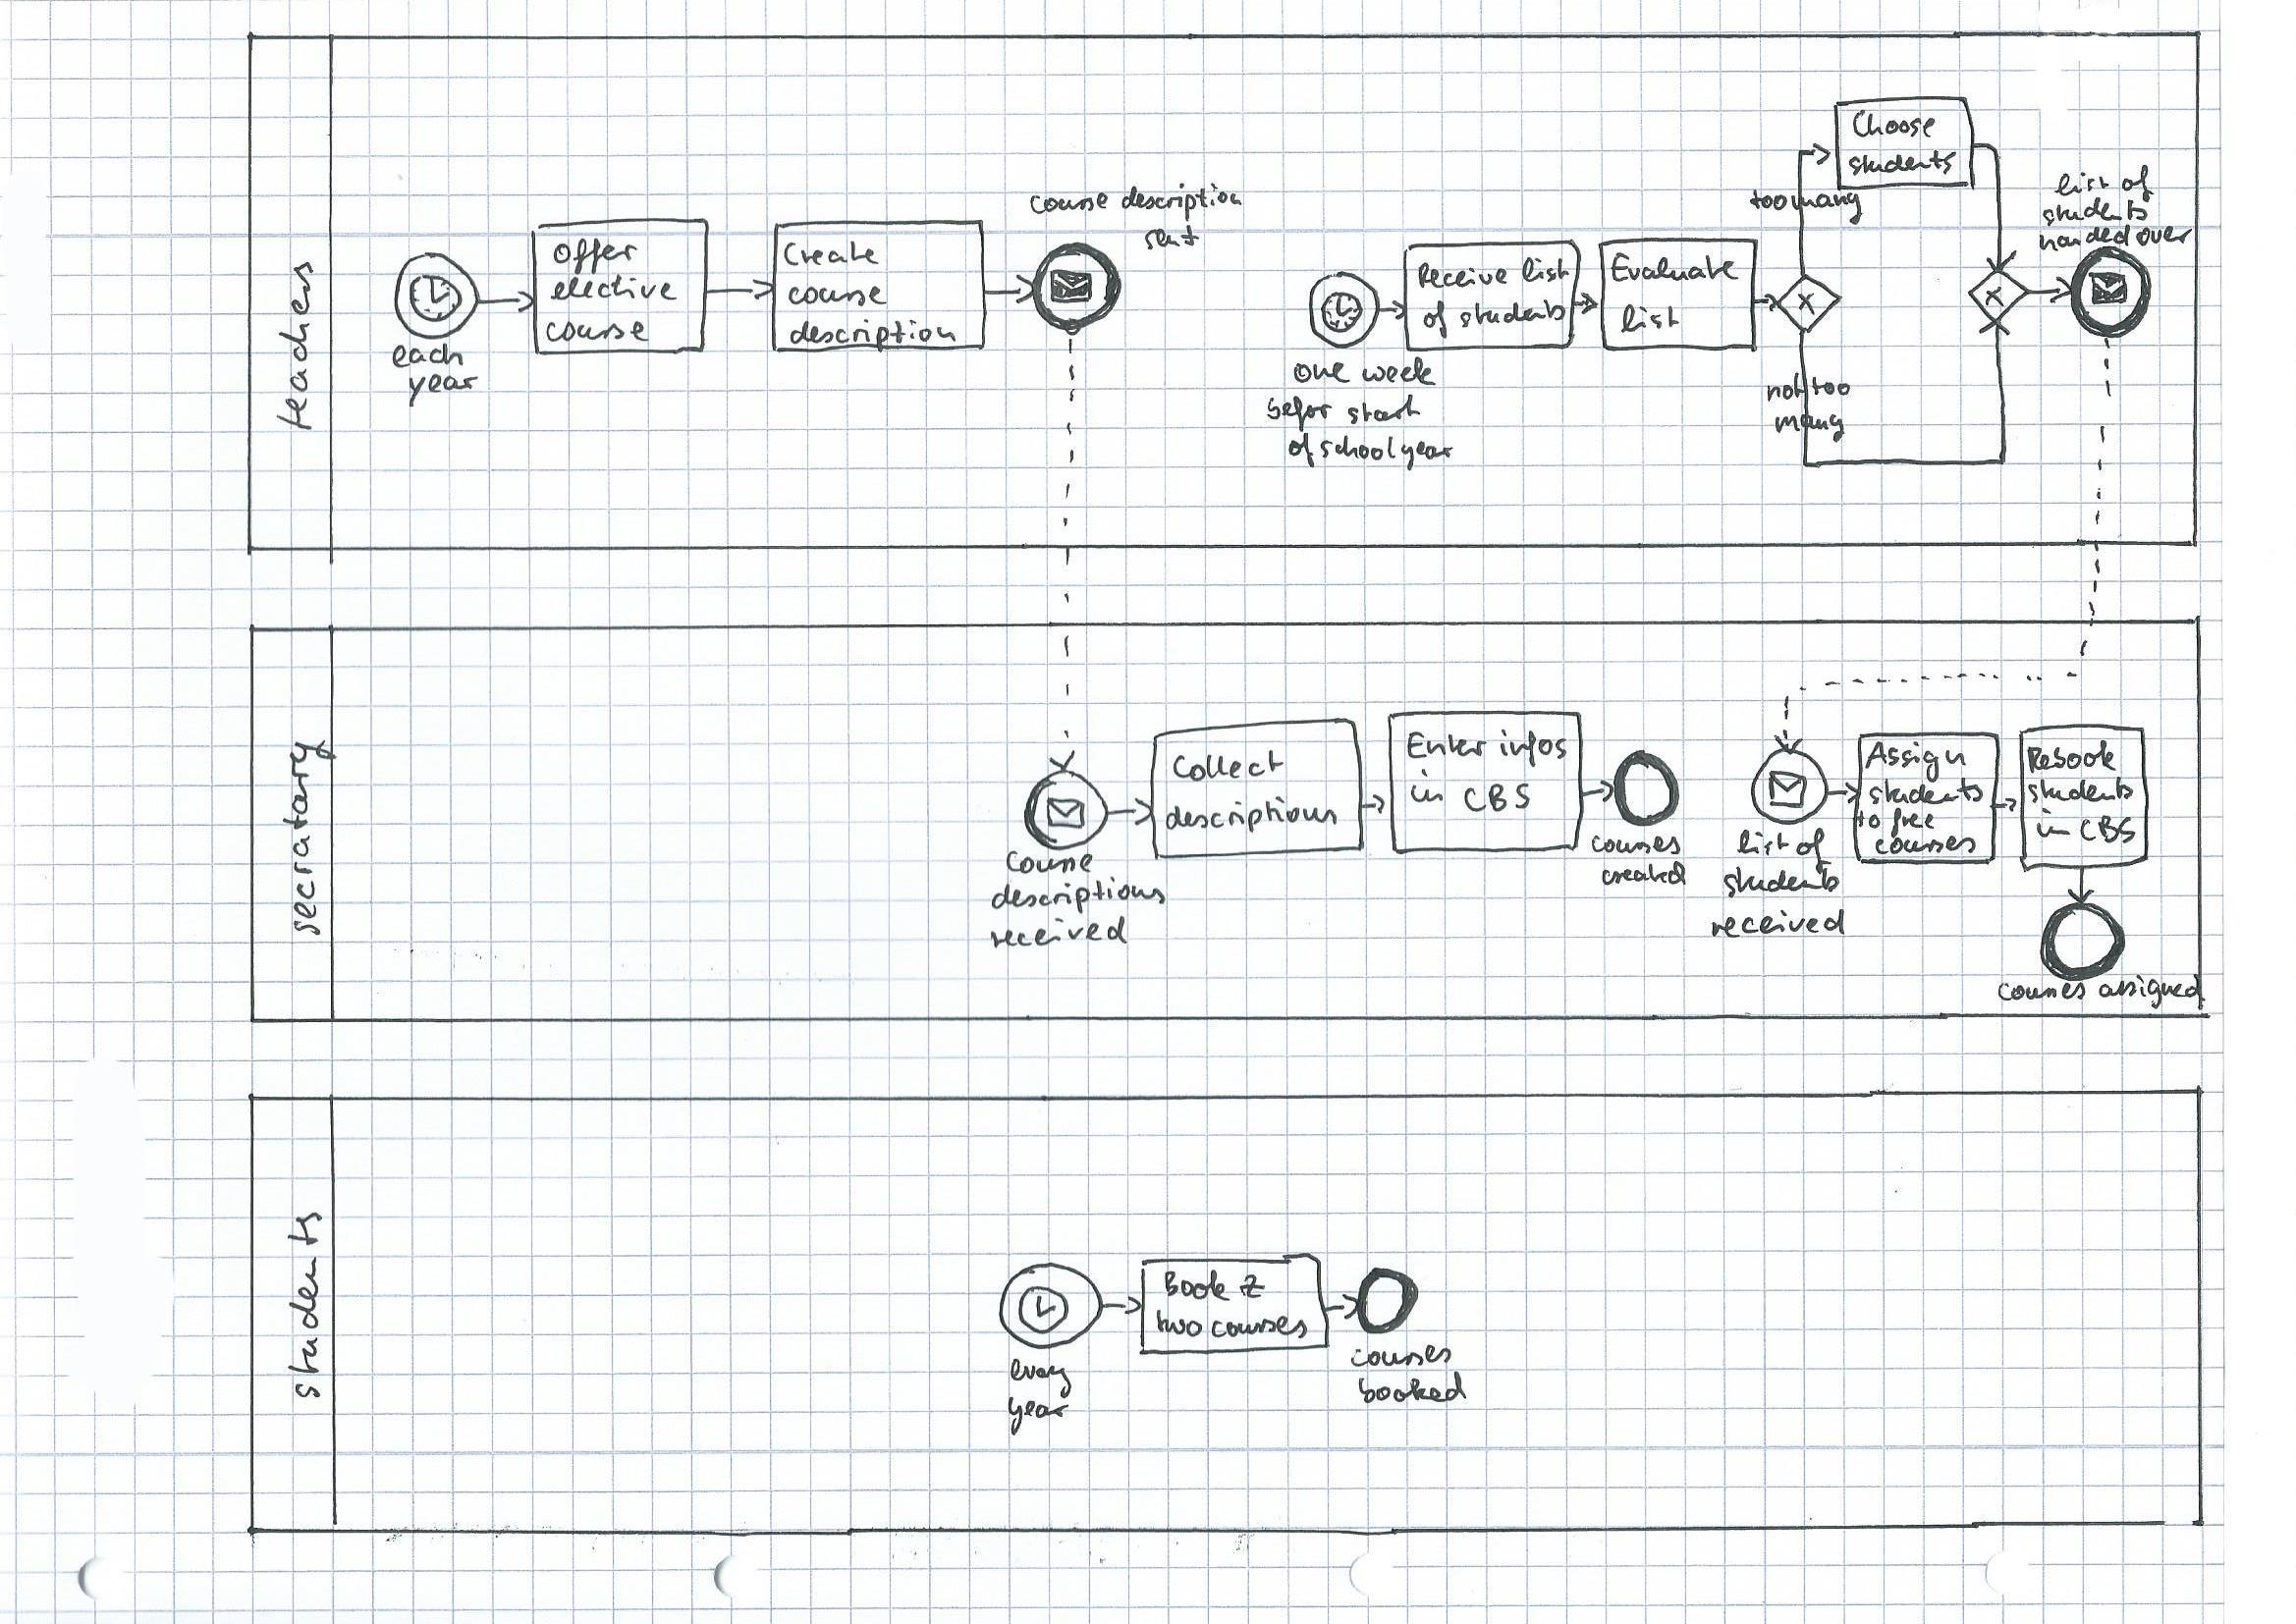Assign: (1863, 740, 1972, 782)
Book: (1162, 1265, 1233, 1301)
CBS: (1460, 779, 1534, 815), (2077, 813, 2140, 846)
Choose: (1851, 109, 1942, 140)
Create: (779, 239, 885, 271)
Enter: (1402, 728, 1491, 762)
Evaluate: (1607, 252, 1742, 287)
Rebook: (2025, 736, 2119, 776)
Receive: (1414, 258, 1513, 295)
assigned: (2095, 969, 2207, 1006)
befor: (1263, 392, 1339, 433)
booked: (1353, 1369, 1469, 1408)
collect: (1168, 746, 1290, 784)
course: (542, 315, 654, 348), (784, 281, 889, 311), (1001, 848, 1099, 880), (1025, 191, 1117, 221)
courses: (1207, 1312, 1316, 1341), (1349, 1340, 1454, 1372), (1586, 829, 1684, 858), (1992, 978, 2094, 1005), (1874, 833, 1982, 858)
created: (1598, 861, 1691, 891)
description: (1164, 792, 1345, 837), (1119, 183, 1250, 223), (784, 319, 963, 349)
descriptions: (990, 877, 1169, 917)
each: (388, 341, 470, 369)
elective: (546, 273, 684, 304)
every: (1002, 1358, 1079, 1398)
free: (1886, 808, 1941, 839)
handed: (2033, 229, 2136, 258)
in: (1406, 767, 1449, 806), (2035, 804, 2074, 840)
infos: (1498, 725, 1571, 768)
list: (1615, 299, 1684, 334), (1734, 826, 1793, 862), (1517, 251, 1574, 285), (2052, 169, 2113, 199)
many: (1771, 406, 1847, 443), (1786, 191, 1868, 225)
not: (1764, 370, 1808, 402)
of: (1795, 828, 1830, 875), (2119, 160, 2155, 203), (1285, 430, 1319, 470), (1421, 299, 1450, 342)
offer: (546, 233, 643, 275)
one: (1288, 360, 1351, 387)
over: (2134, 223, 2195, 247)
received: (1703, 910, 1852, 944), (986, 917, 1131, 951)
school: (1317, 432, 1400, 462)
secratary: (280, 734, 338, 940)
sent: (1140, 225, 1202, 253)
start: (1339, 396, 1425, 427)
students: (286, 1210, 326, 1404), (2035, 192, 2156, 227), (1721, 866, 1846, 899), (1866, 778, 1990, 809), (2026, 775, 2137, 808), (1844, 149, 1960, 180), (1452, 307, 1569, 333)
teachers: (275, 262, 317, 434)
to: (1852, 807, 1885, 830)
too: (1747, 188, 1792, 214), (1806, 373, 1854, 396)
two: (1153, 1306, 1206, 1339)
week: (1359, 357, 1437, 390)
year: (404, 367, 483, 407), (1003, 1396, 1072, 1436), (1397, 437, 1457, 472)
